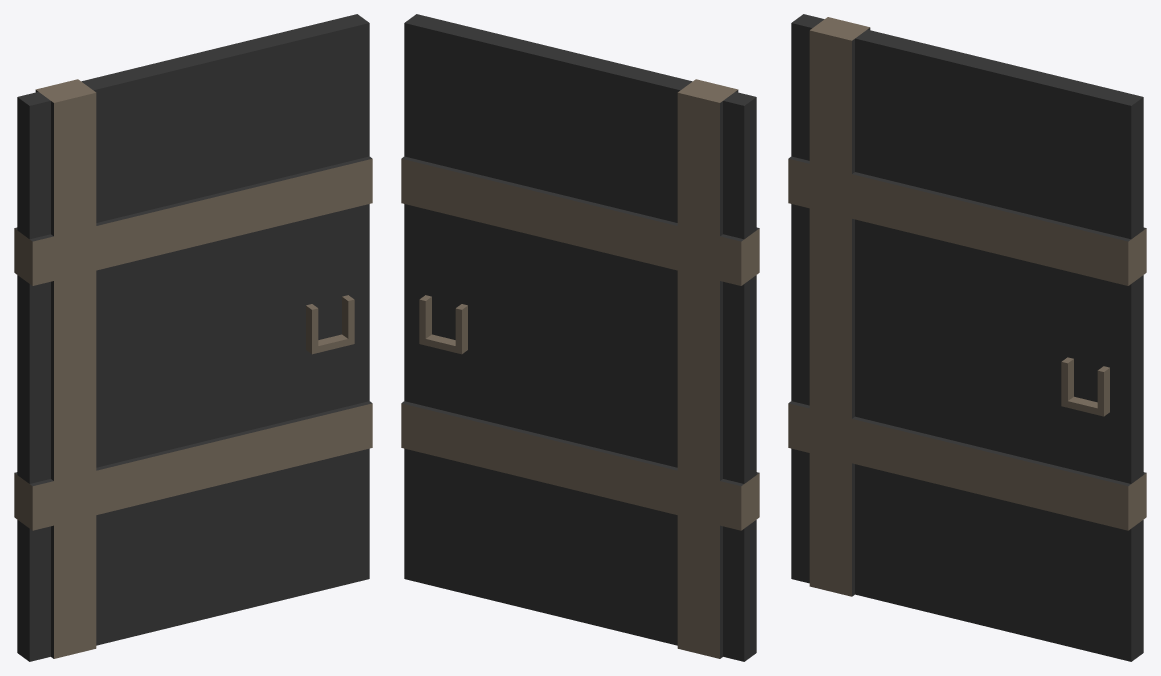
The model's file is steampunk_door_1.fbx.
3 views of the same model, side by side, from view 1: azimuth 30°, elevation 25°; view 2: azimuth 150°, elevation 25°; view 3: azimuth 330°, elevation 25° (orthographic).
Parts seen in each view (by area): view 1: Plane.002; view 2: Plane.002; view 3: Plane.002.
Part boxes in pixels (left/top/right/bottom): Plane.002: left=14, top=14, right=372, bottom=661; Plane.002: left=401, top=14, right=759, bottom=661; Plane.002: left=788, top=14, right=1146, bottom=661.
Bounding box in the file's own units: 1.6 × 2.5 × 0.2.
